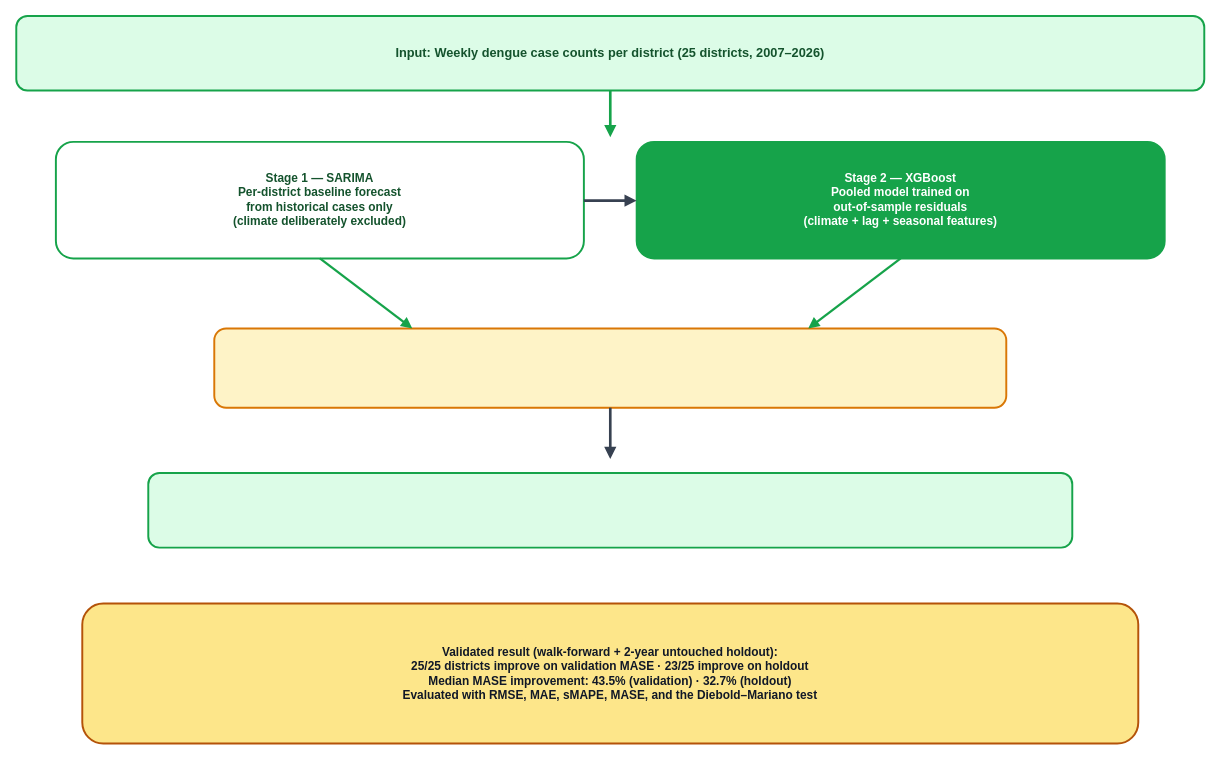
Some shapes in this 1221 by 759 pixel diagram are drawn without their labels. Here are the shapes that lost their labels. From the top down, the centre of each, then its label:
At pixel 610 367: "Final Prediction = ŷ_SARIMA + predicted residual (clipped ≥ 0)".
At pixel 610 510: "Output: Compensated weekly case forecast per district".
